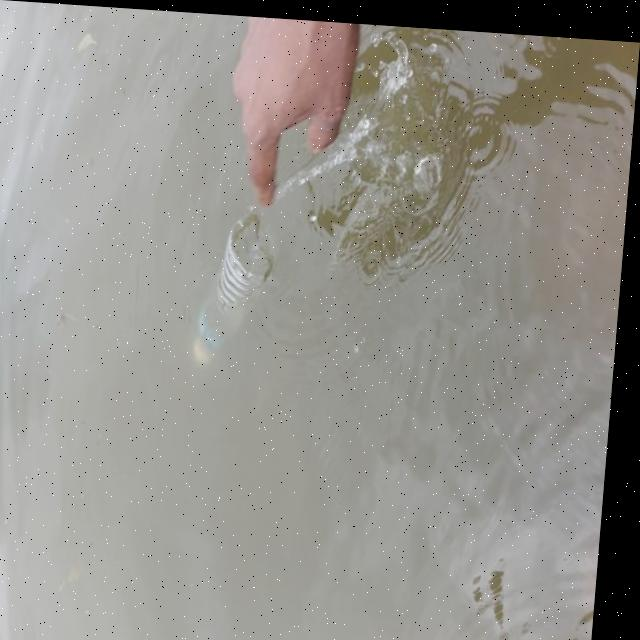waterbottle: (186, 210, 290, 381)
